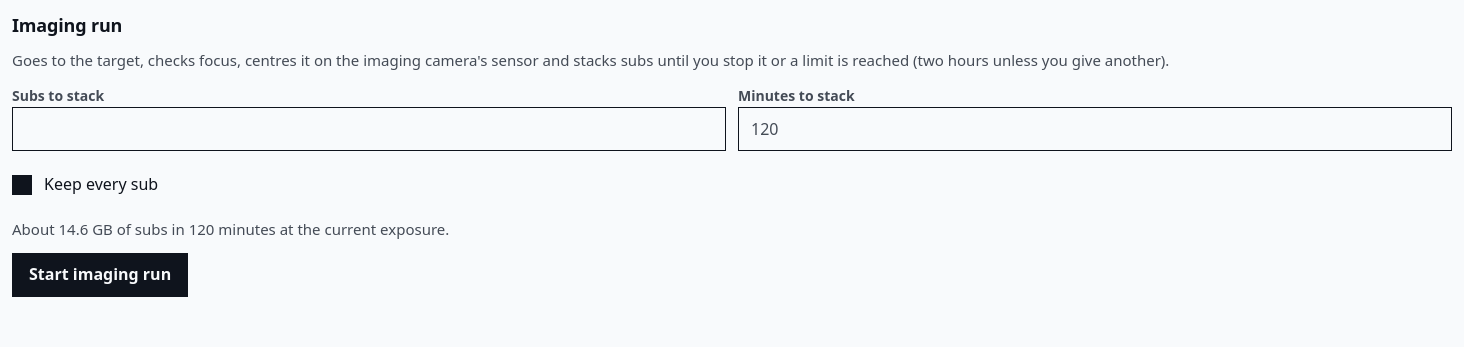
Test: US9-S13: Start posts only valid optional limits › shows a refused start without refreshing and removes its alert when a run appears
Click the button "Start imaging run": (100,275) top-left (12, 253), bottom-right (188, 297)
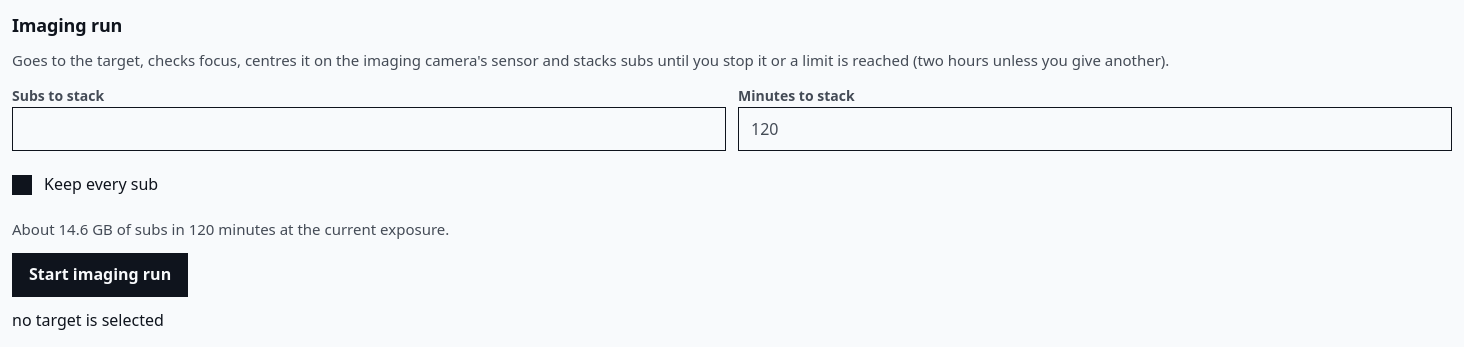
Now the message reads "no target is selected", box top-left (12, 309), bottom-right (164, 331)
